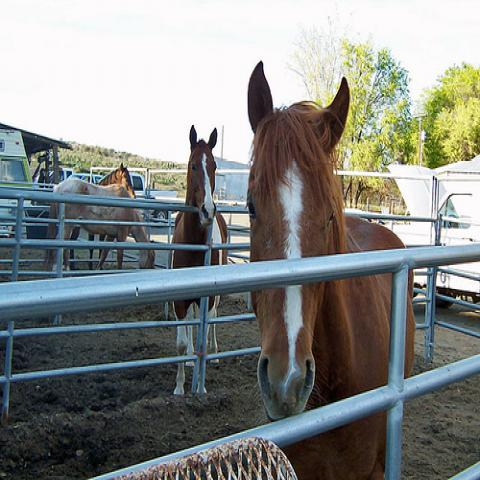car: (32, 168, 73, 223), (70, 171, 92, 182)
truck: (386, 163, 479, 278), (0, 131, 36, 240), (412, 271, 479, 302), (130, 174, 177, 198)
